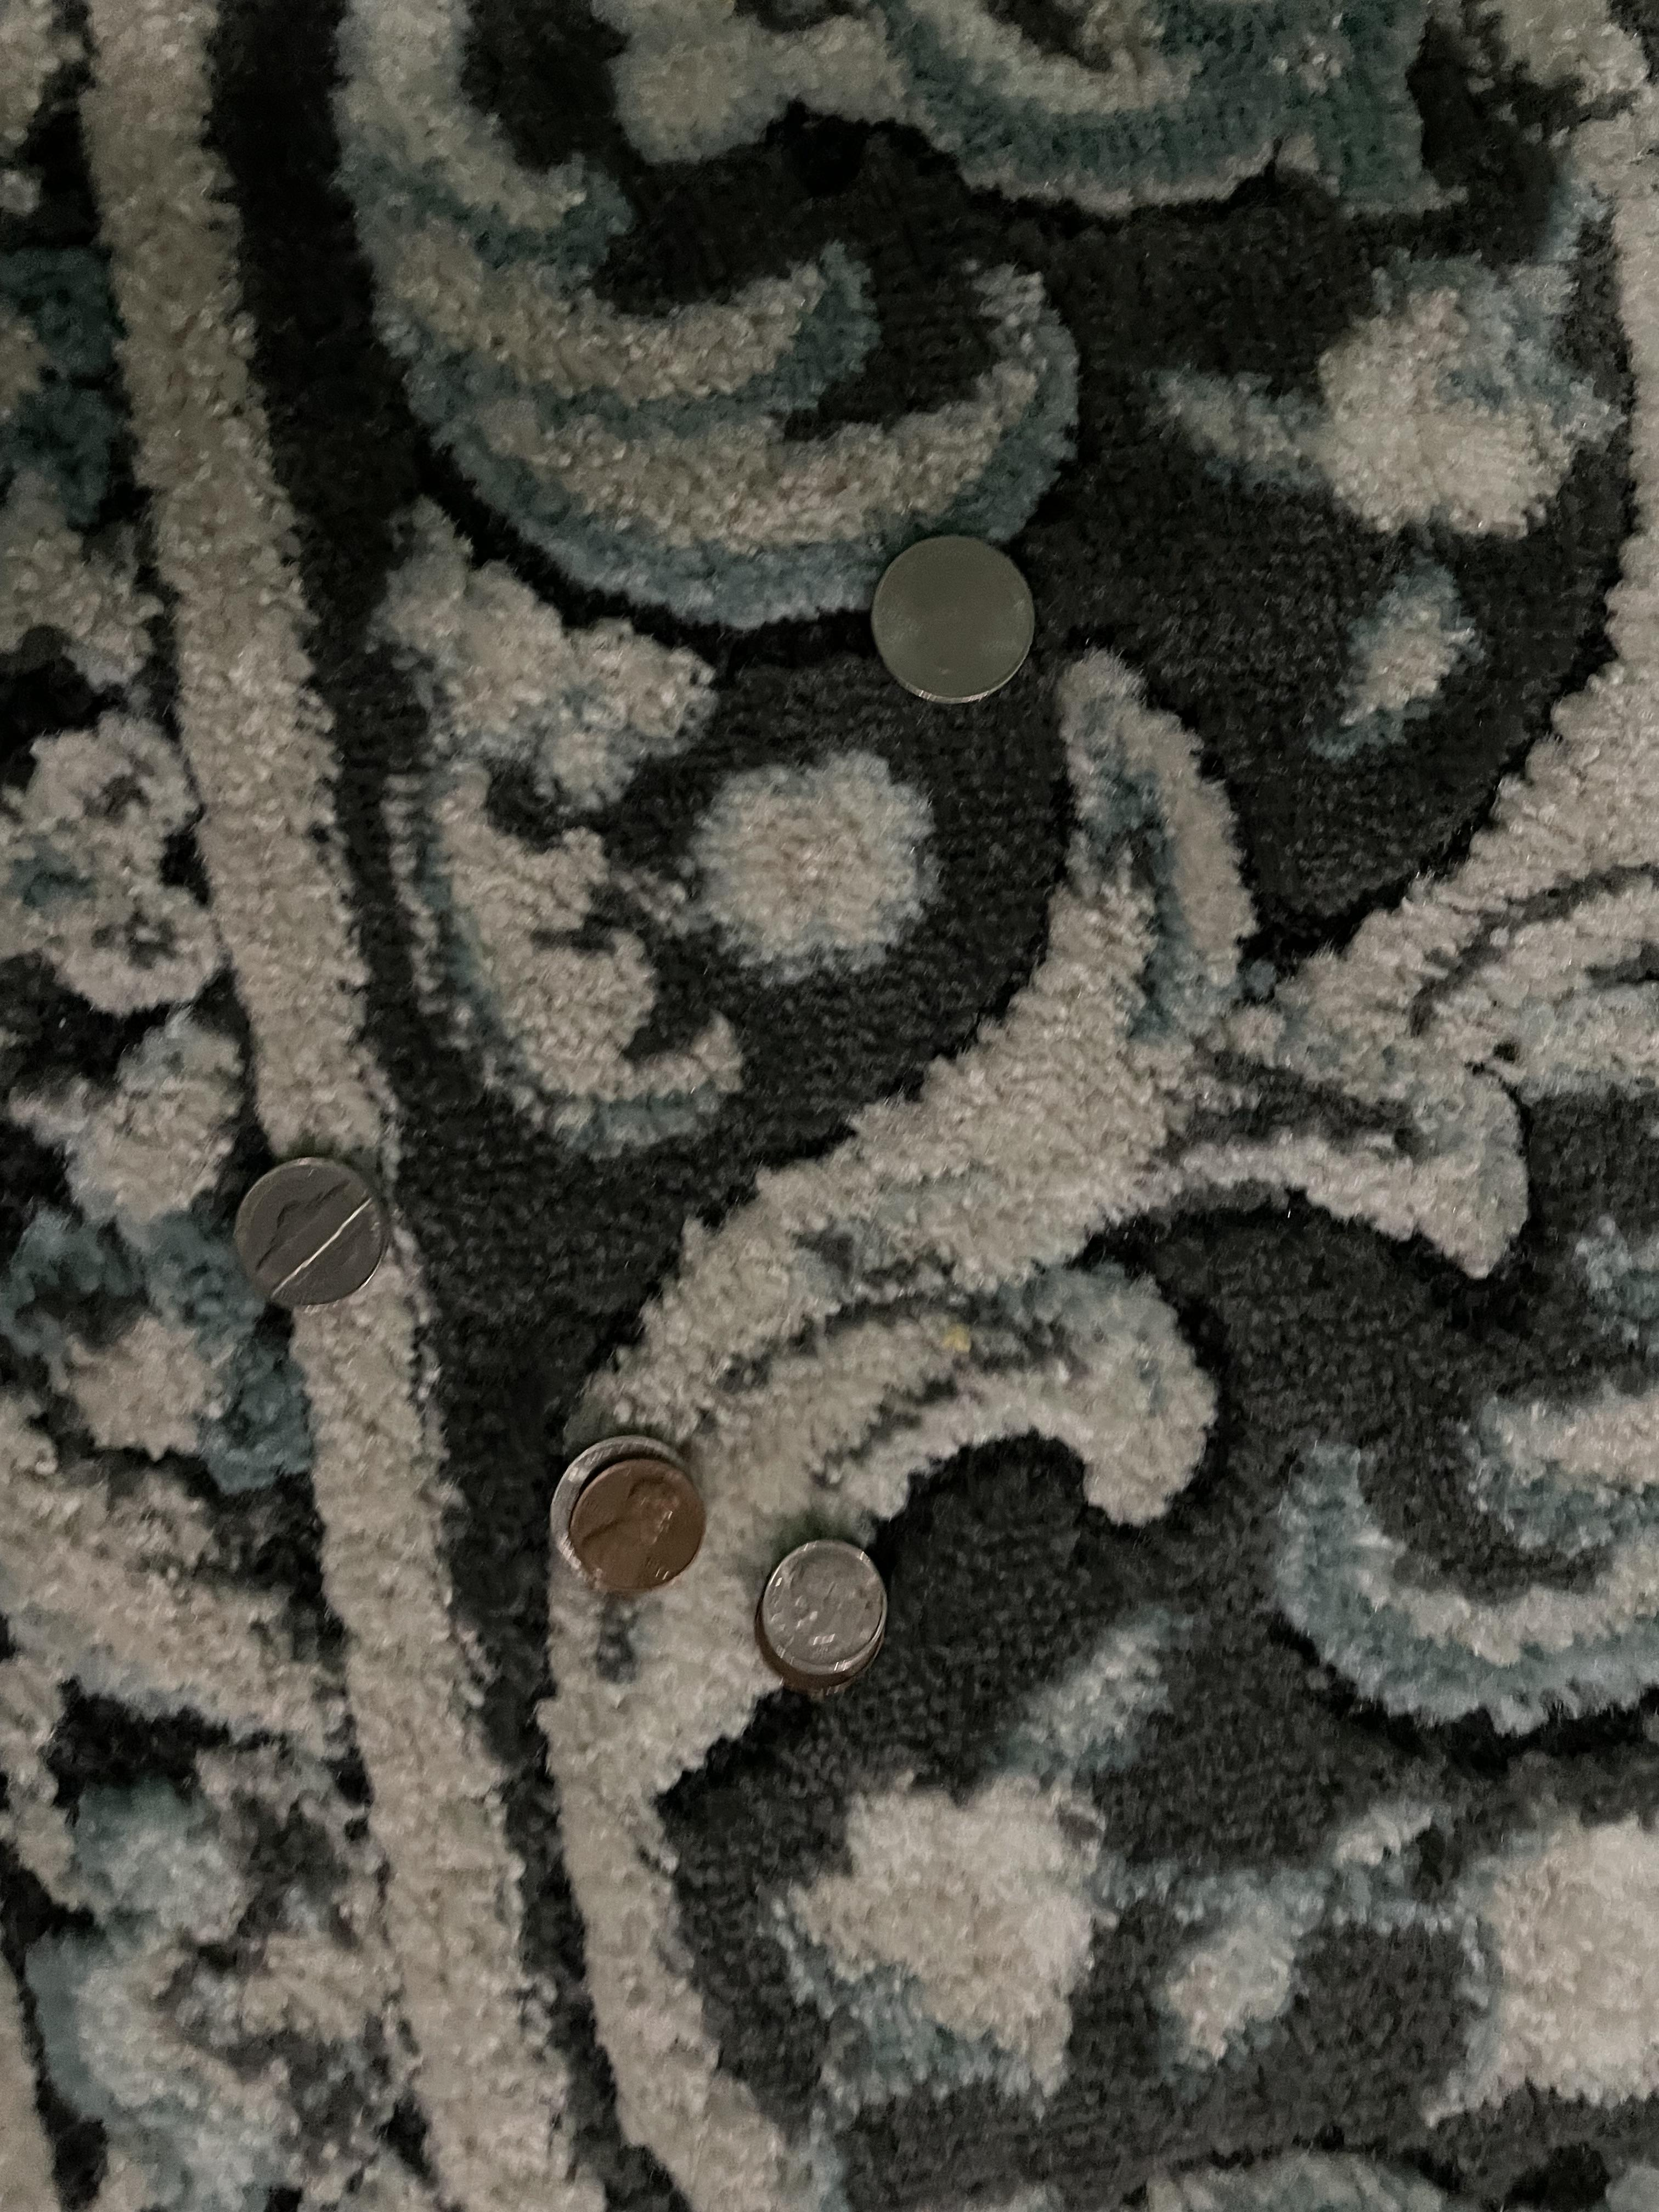Dime: (751, 1531, 897, 1676)
Nickel: (225, 1151, 403, 1327)
Penny: (572, 1454, 716, 1604)
Quarter: (856, 524, 1051, 723)
